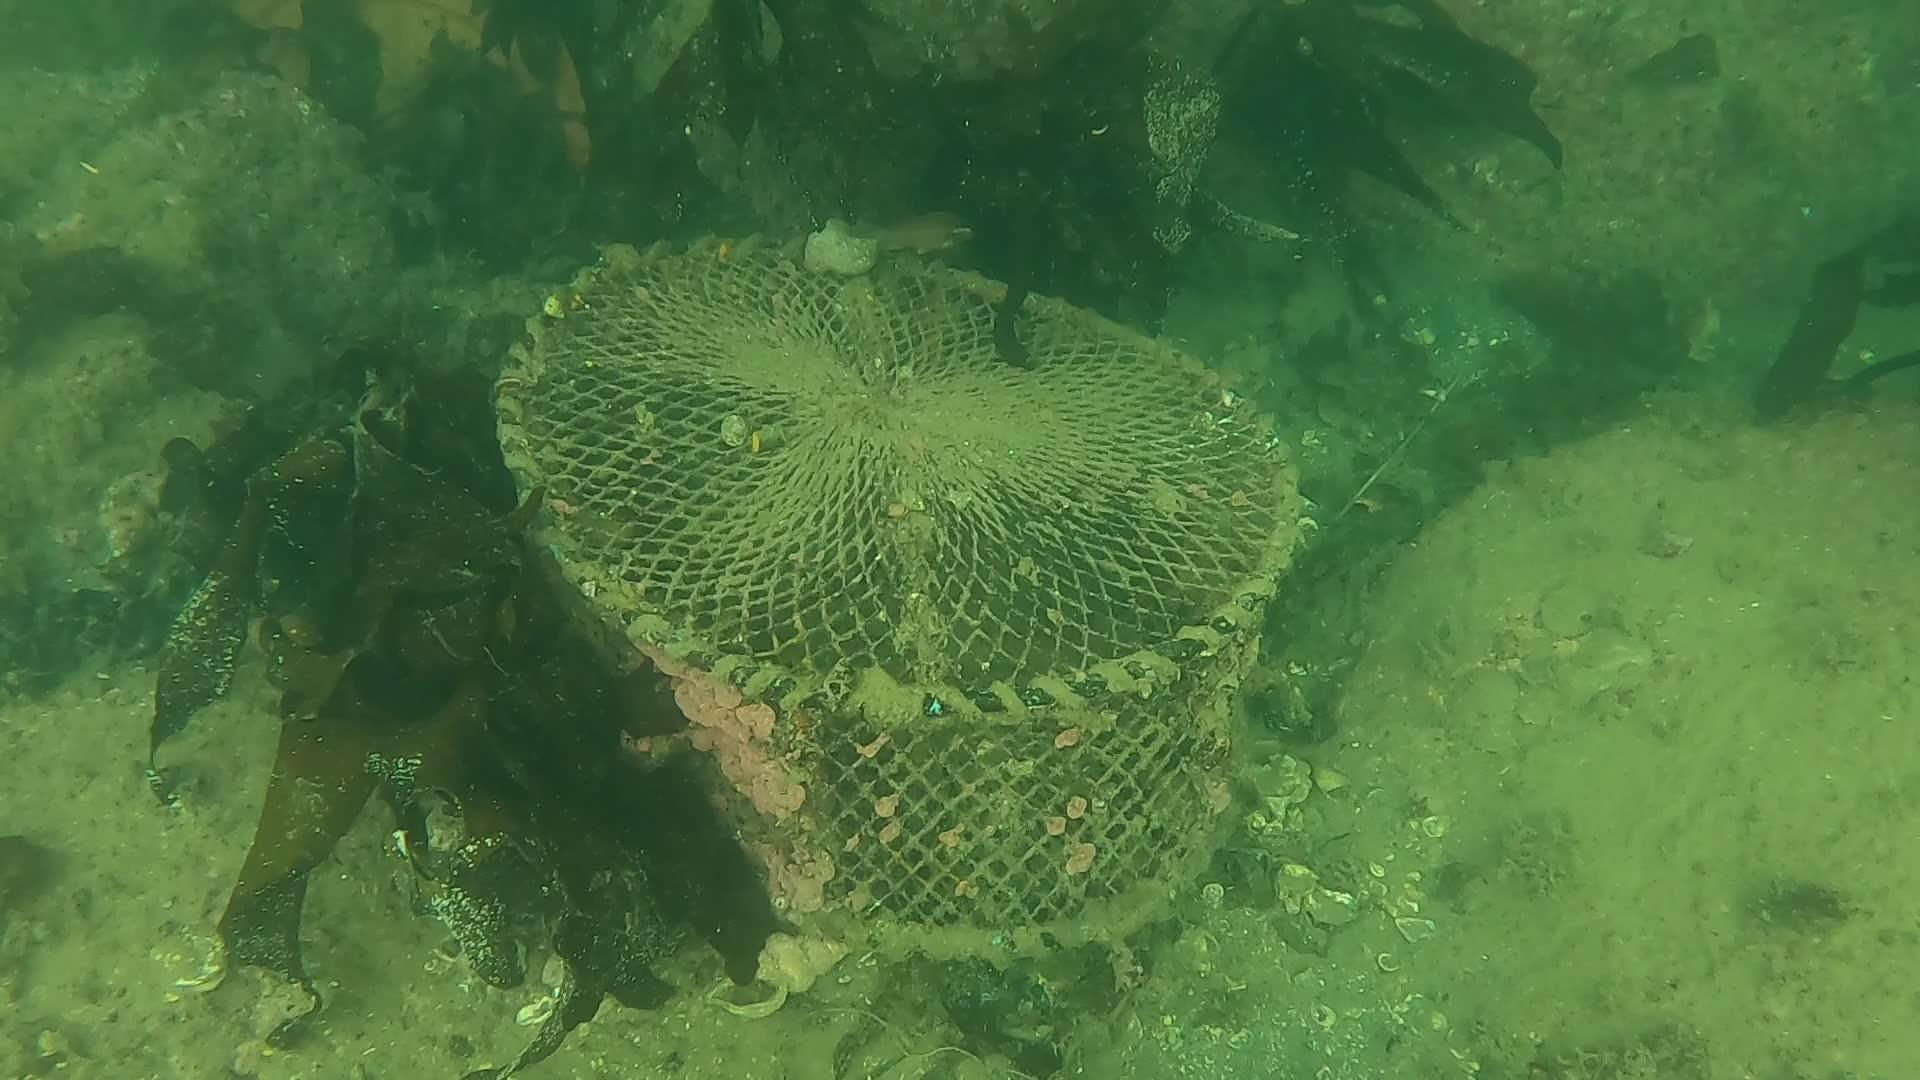circular fish trap: (483, 233, 1308, 971)
